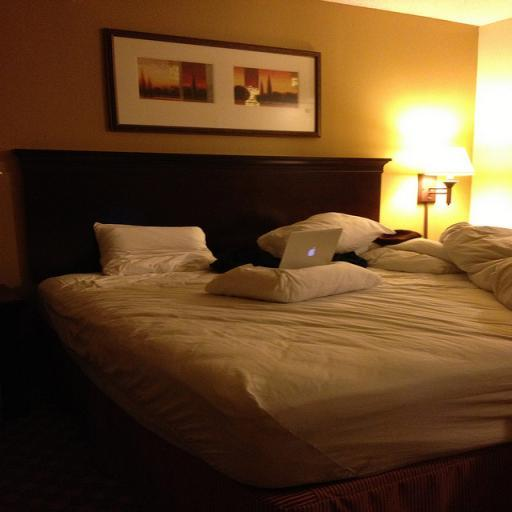bed: (10, 136, 512, 495)
